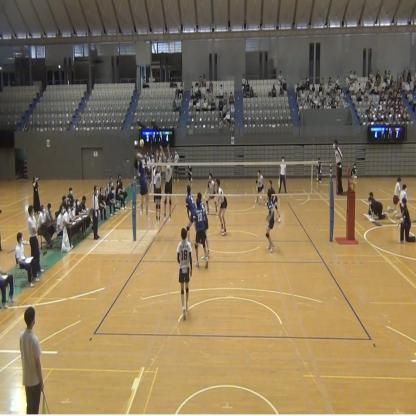spike: (131, 136, 154, 224)
